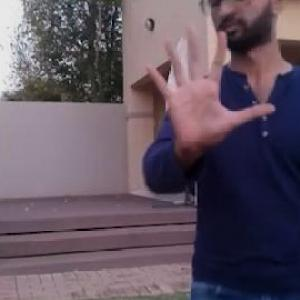follow_hand: (141, 19, 277, 154)
